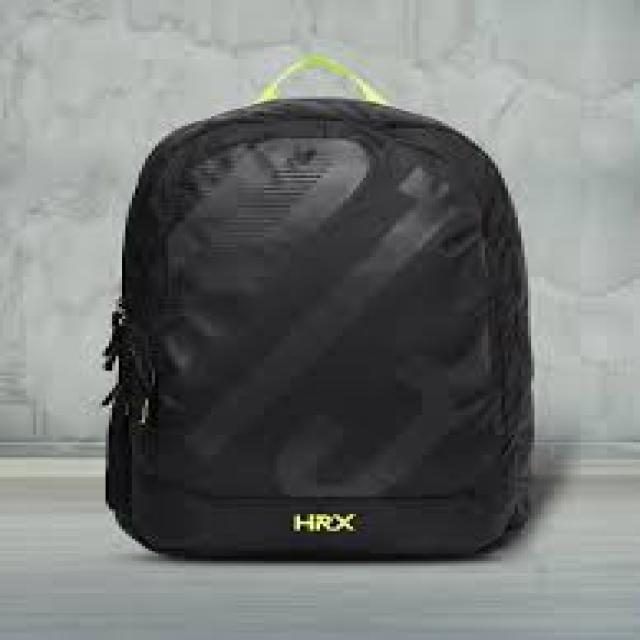backpack: (100, 92, 535, 562)
